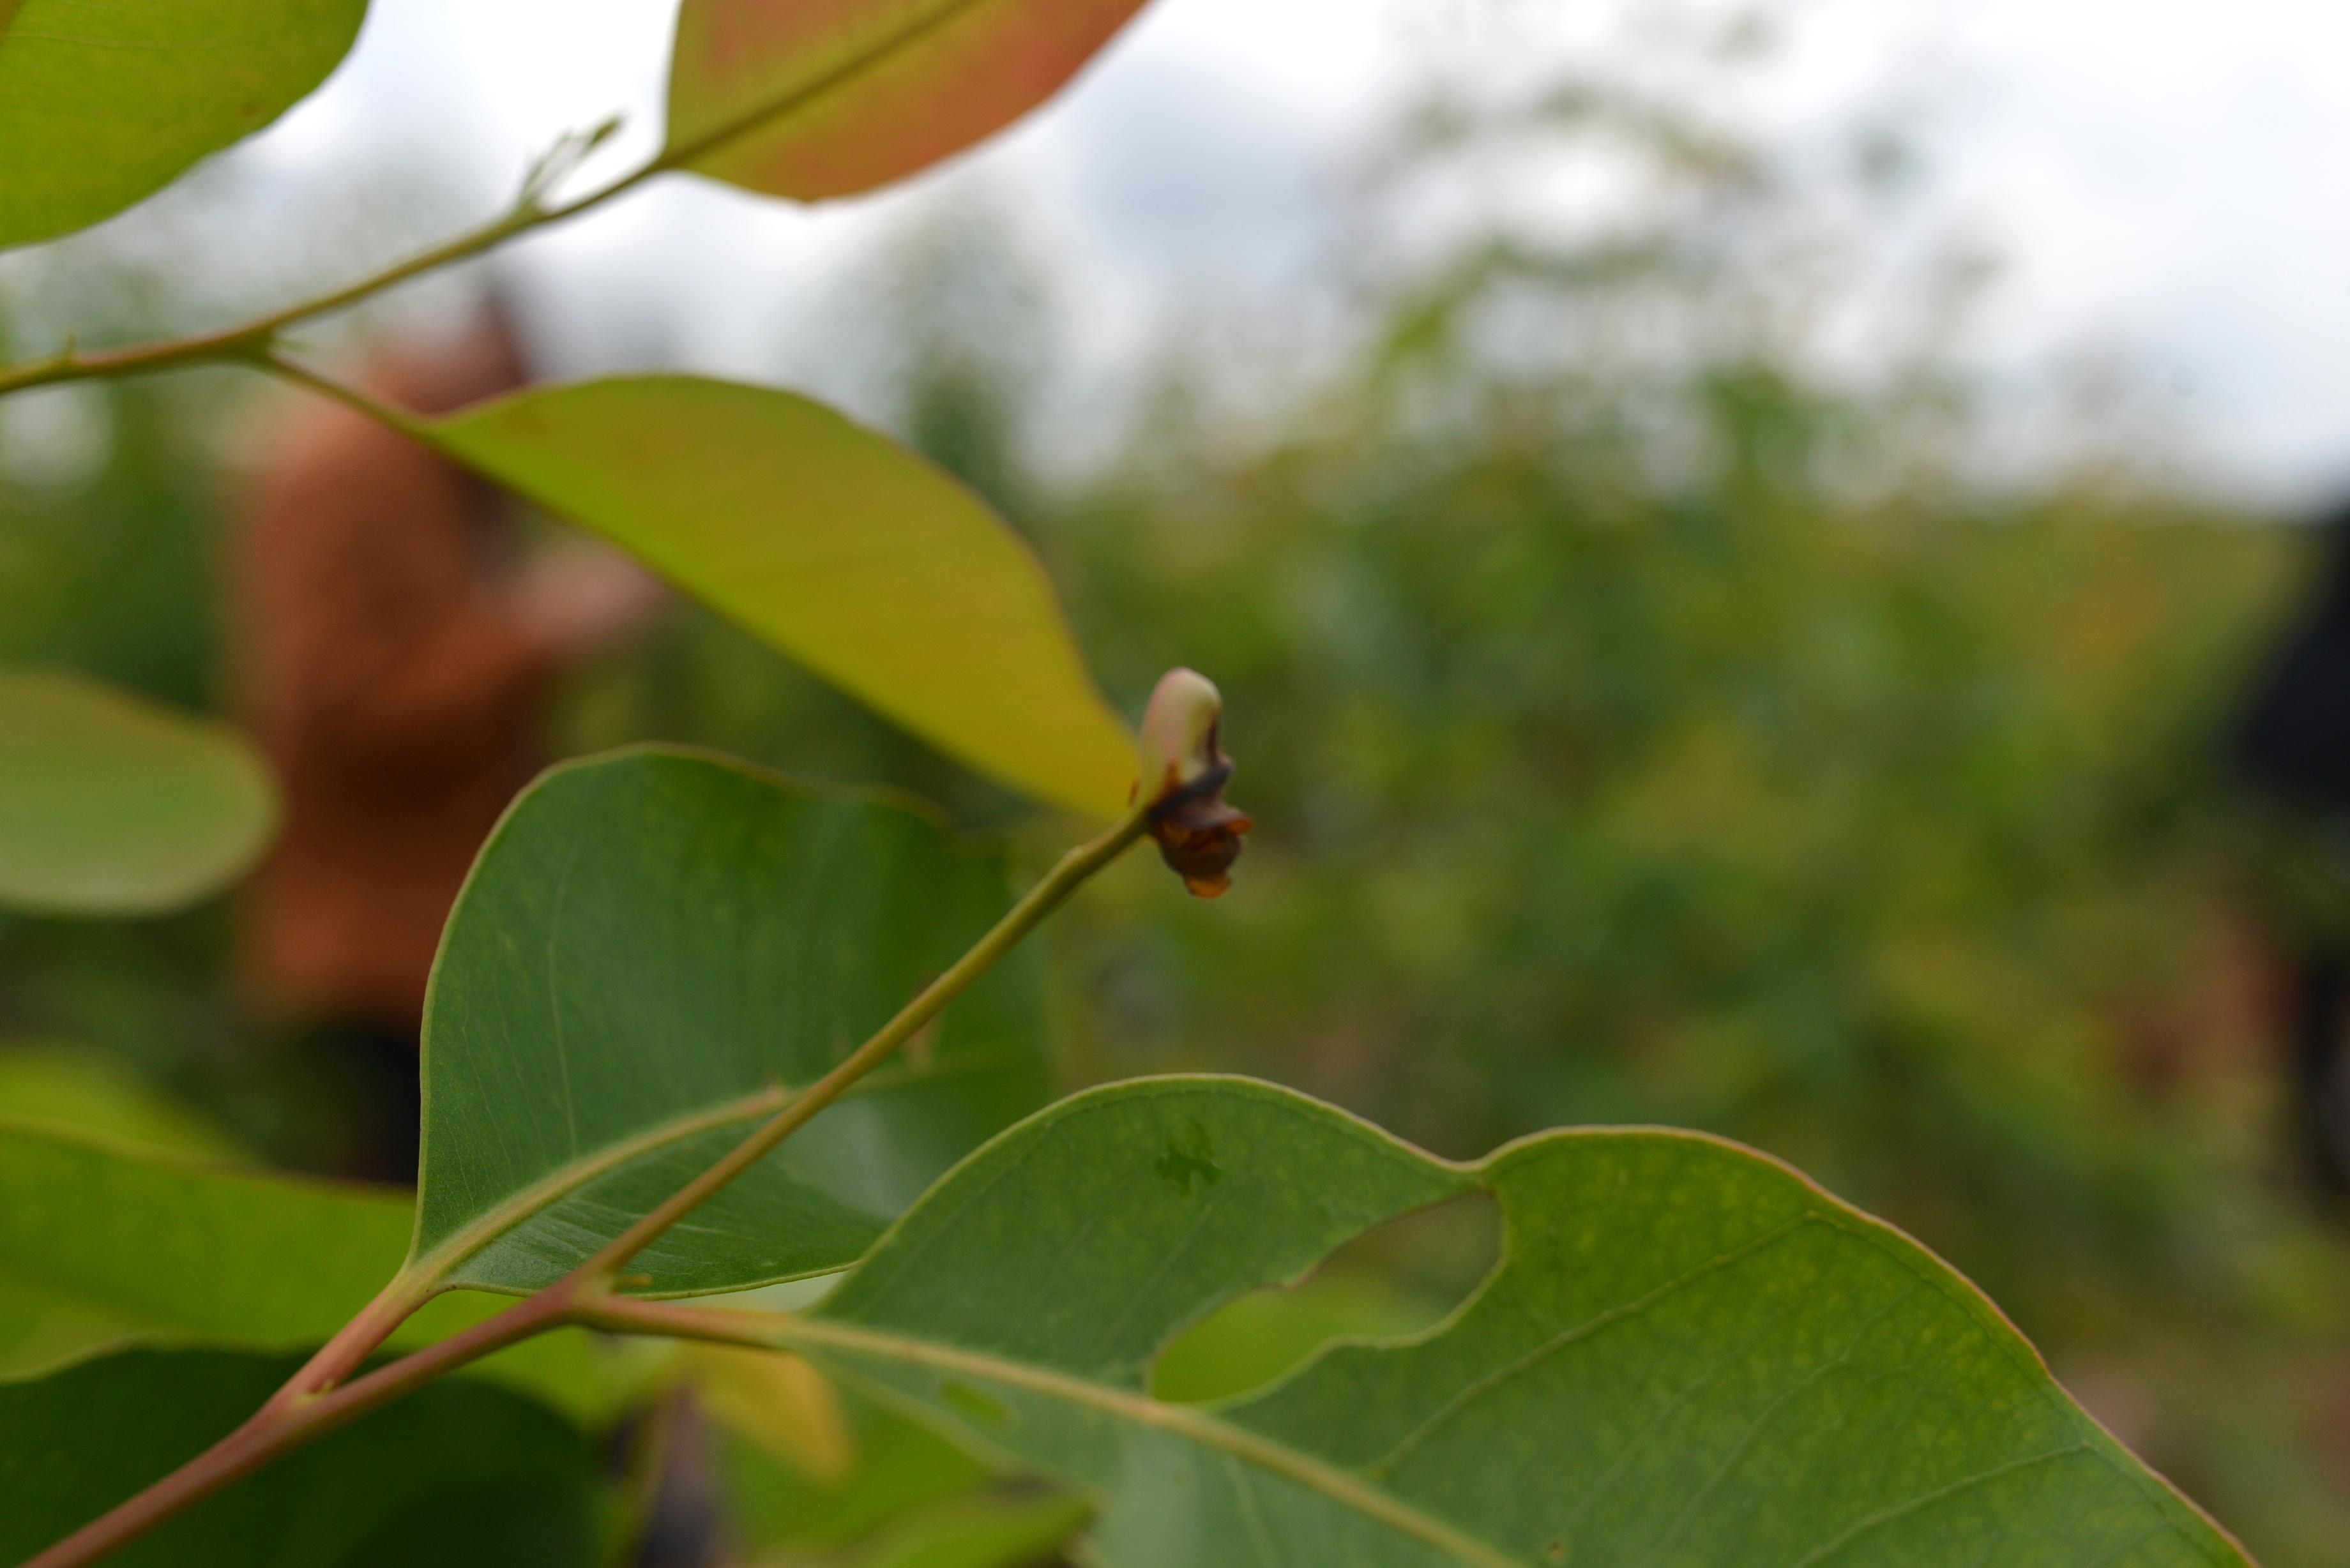Helopeltis-Withered Sprout: (1111, 654, 1263, 901)
